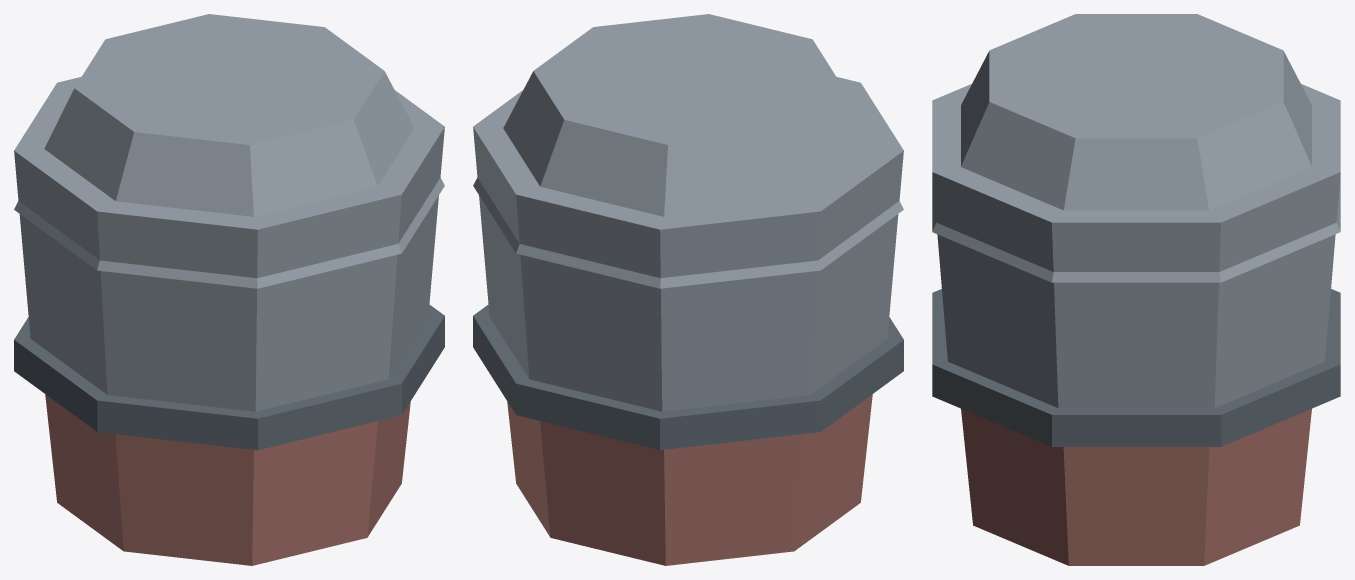
Rendered from inf_driver_upper_arm_l.fbx.
3 renders of one model, left to right at view 1: azimuth 30°, elevation 25°; view 2: azimuth 150°, elevation 25°; view 3: azimuth 270°, elevation 25°, orthographic.
Parts seen in each view (by area): view 1: inf_driver_upper_arm_l; view 2: inf_driver_upper_arm_l; view 3: inf_driver_upper_arm_l.
Part boxes in pixels (bbox=[...]): inf_driver_upper_arm_l: bbox=[14, 14, 444, 565]; inf_driver_upper_arm_l: bbox=[473, 14, 903, 565]; inf_driver_upper_arm_l: bbox=[932, 14, 1340, 565].
Bounding box in the file's own units: 92.39 × 105 × 92.39.
